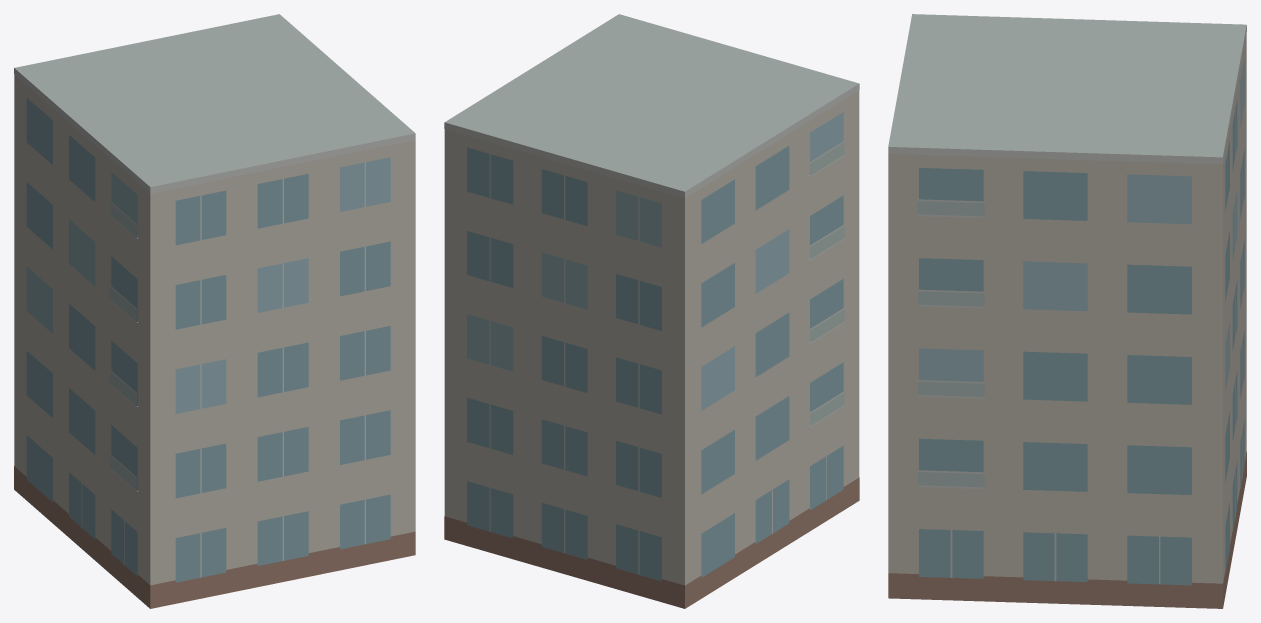
The model's file is survey-upis-32878136.glb.
The picture shows the model from 3 angles, left to right: view 1: azimuth 30°, elevation 25°; view 2: azimuth 150°, elevation 25°; view 3: azimuth 270°, elevation 25°; orthographic projection. The views are drawn at different scales.
Parts seen in each view (by area): view 1: survey-upis-32878136.tmp; view 2: survey-upis-32878136.tmp; view 3: survey-upis-32878136.tmp.
Part boxes in pixels (x1,y1,x2,y2): survey-upis-32878136.tmp: (14, 14, 415, 608); survey-upis-32878136.tmp: (444, 14, 859, 608); survey-upis-32878136.tmp: (888, 14, 1246, 608).
Bounding box in the file's own units: 10.63 × 15.6 × 11.24.
